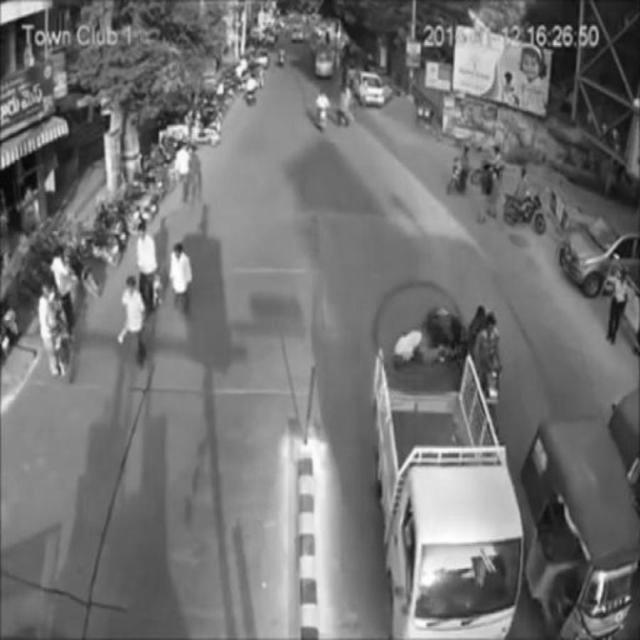accident: (368, 322, 520, 638)
person: (118, 273, 148, 366), (133, 220, 163, 311), (169, 244, 195, 320)
vehicle: (533, 414, 635, 636), (559, 211, 640, 291), (463, 305, 513, 413)
